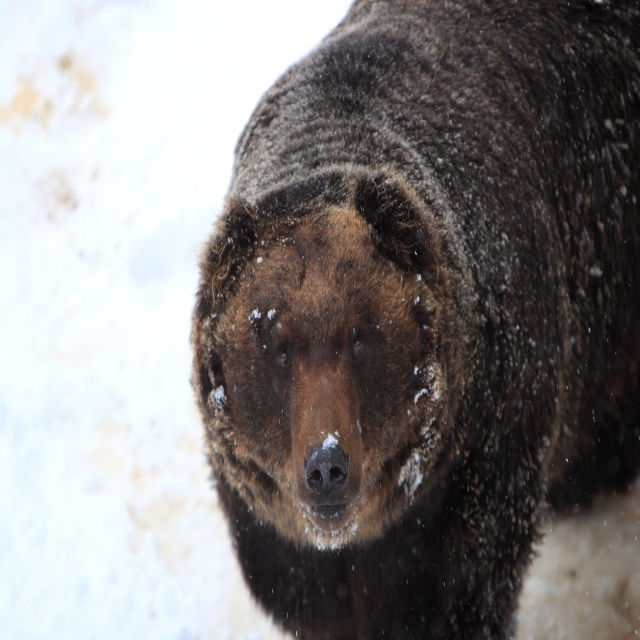Bear: (188, 0, 640, 639)
